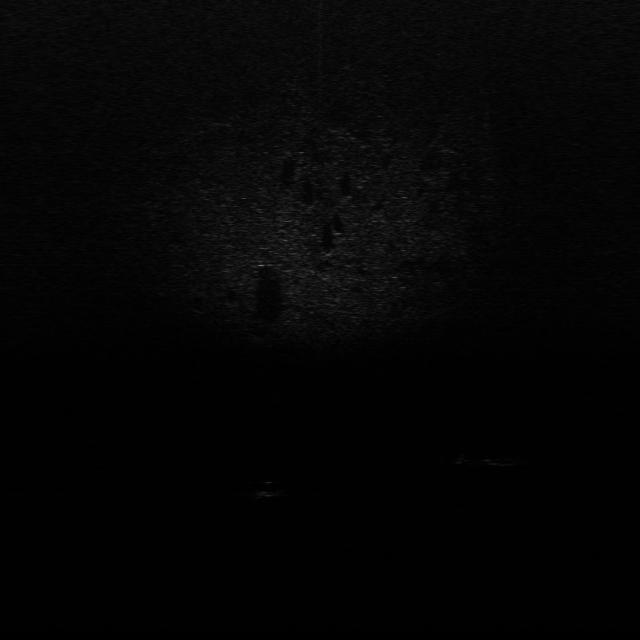ball: (256, 481, 284, 499)
human body: (448, 448, 531, 469)
